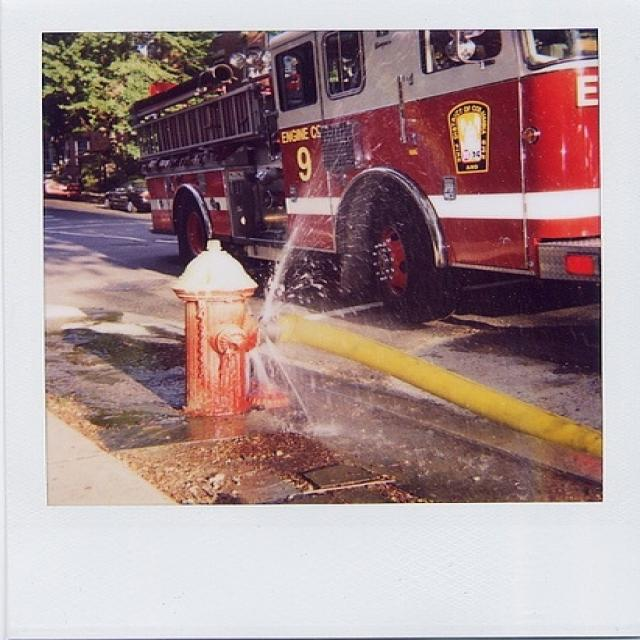fire_hydrant: (145, 221, 355, 524)
